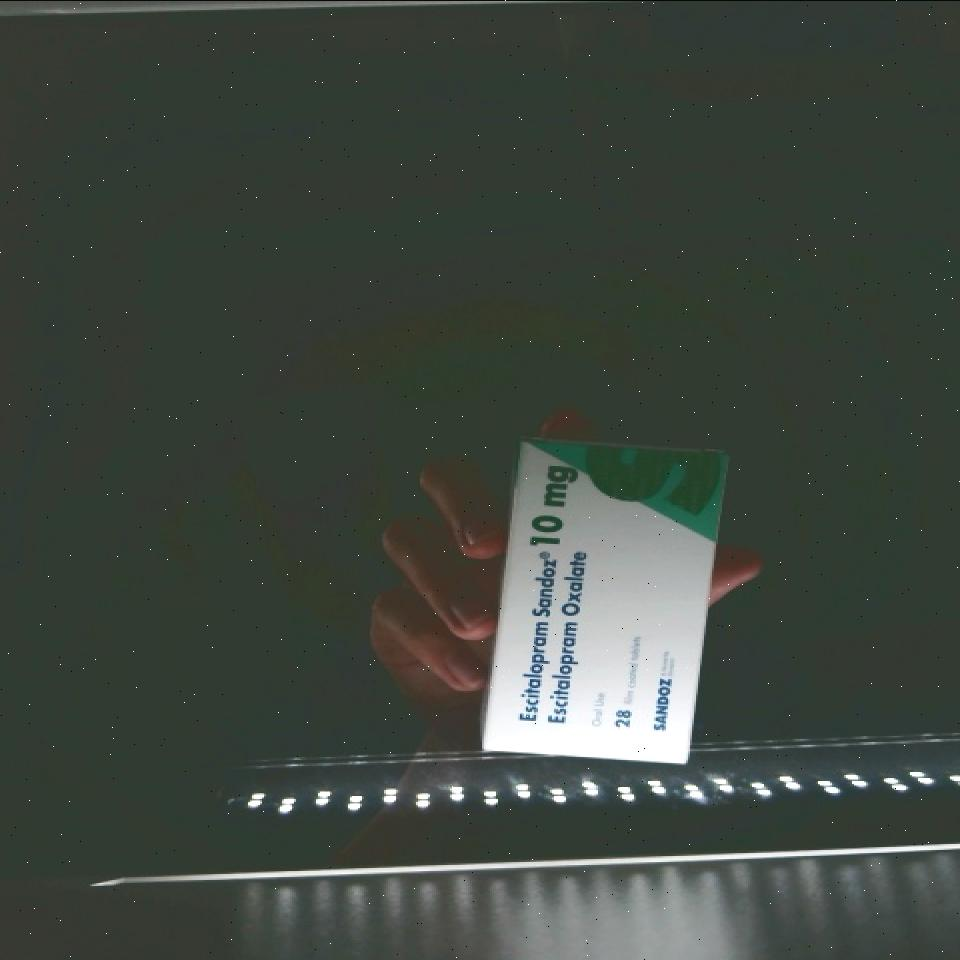medicine_box: (479, 422, 727, 779)
medicine_label_obb: (484, 529, 612, 755)
